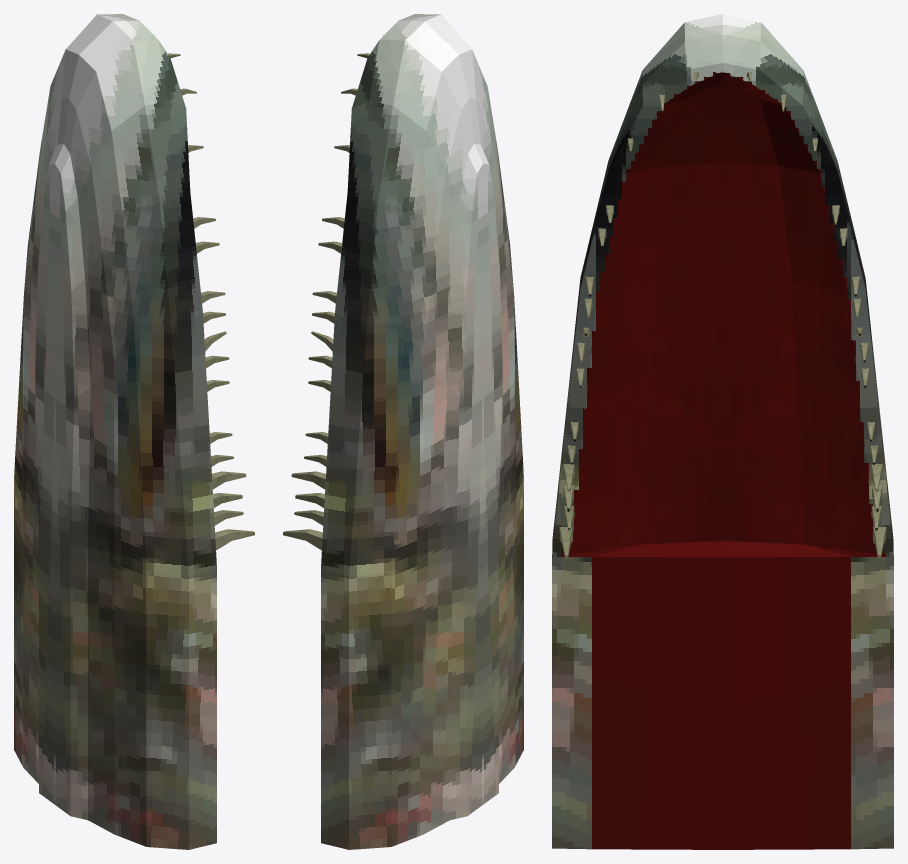
The model's file is PikeBottom.glb.
3 views of the same model, side by side, from view 1: azimuth 30°, elevation 25°; view 2: azimuth 150°, elevation 25°; view 3: azimuth 270°, elevation 25° (orthographic). The views are drawn at different scales.
Parts seen in each view (by area): view 1: BottomPike.003; view 2: BottomPike.003; view 3: BottomPike.003.
Part boxes in pixels (x1,y1,x2,y2): BottomPike.003: [14, 14, 254, 849]; BottomPike.003: [283, 14, 523, 849]; BottomPike.003: [552, 14, 893, 849].
Size of the model in its own units: 6.62 by 38.58 by 14.54.
1 material, 1 textured.
